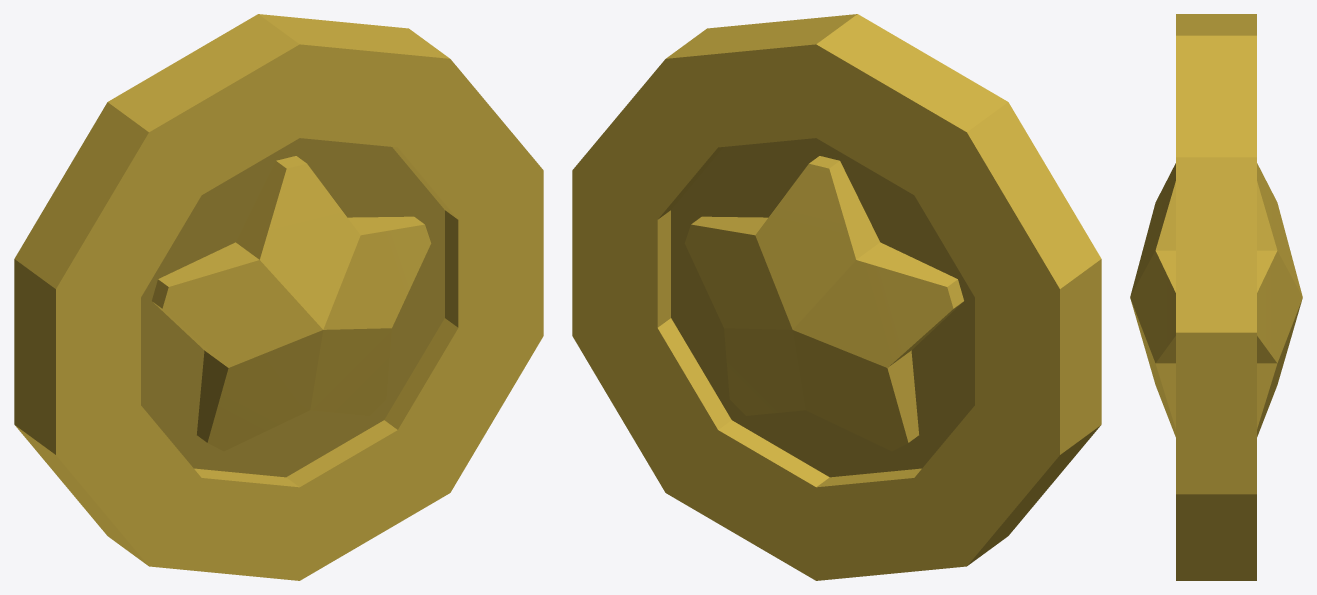
The model's file is Coin.glb.
3 renders of one model, left to right at view 1: azimuth 30°, elevation 25°; view 2: azimuth 150°, elevation 25°; view 3: azimuth 270°, elevation 25°, orthographic. The views are drawn at different scales.
Parts seen in each view (by area): view 1: Coin; view 2: Coin; view 3: Coin.
Part boxes in pixels (x1,y1,x2,y2): Coin: [14, 14, 543, 580]; Coin: [572, 14, 1101, 580]; Coin: [1130, 14, 1302, 580].
Bounding box in the file's own units: 0.745 × 0.7834 × 0.2344.
